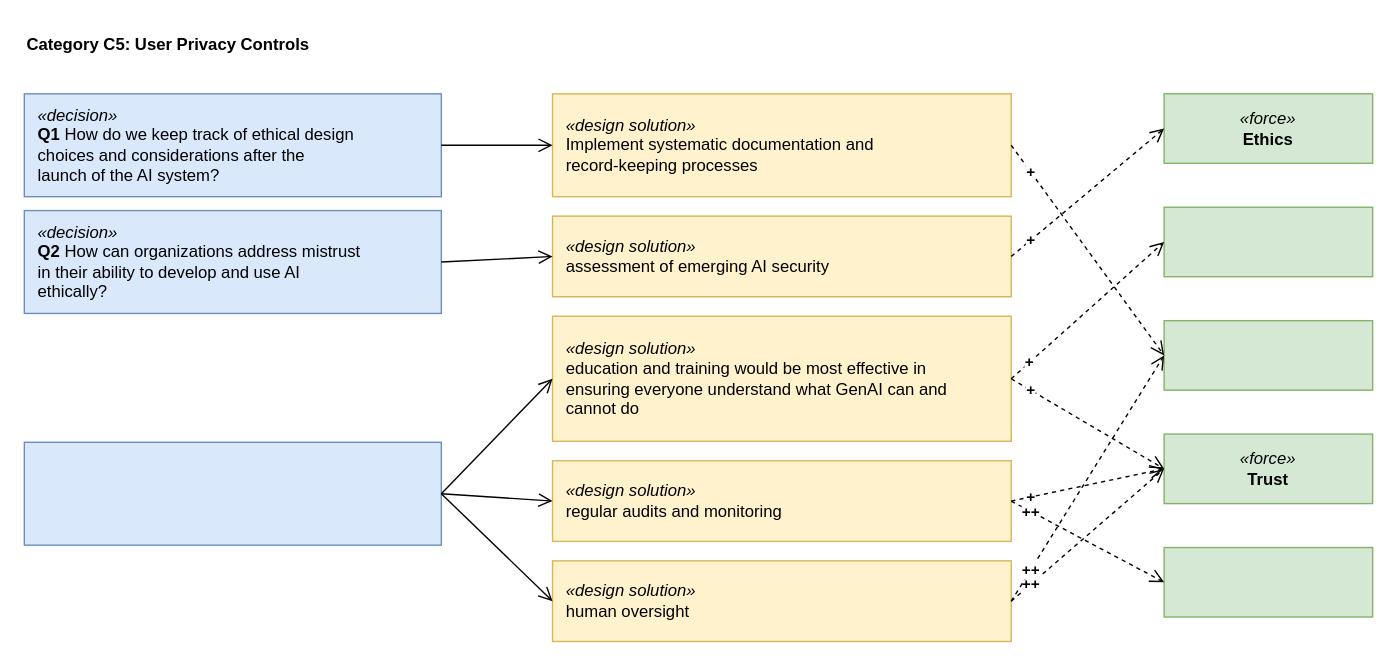
The diagram is 1397 pixels wide and 666 high, and some of its shapes have lost their labels. Here are the shapes that lost their labels. From the top down, the box of each, then its label:
(1163, 206, 1373, 277): «force» Privacy
(1163, 319, 1373, 390): «force» Transparency
(23, 441, 441, 545): «decision» Q3 How can organizations embed trust within their GenAI applications?
(1163, 546, 1373, 617): «force» Fairness
